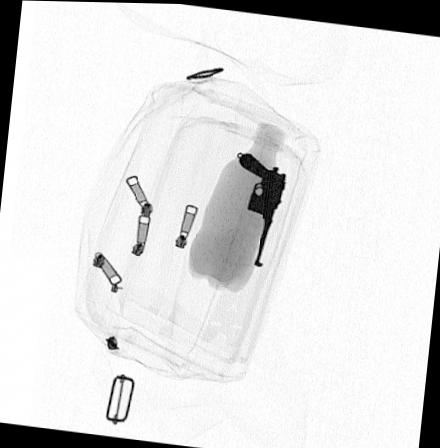Gun: (239, 149, 288, 265)
